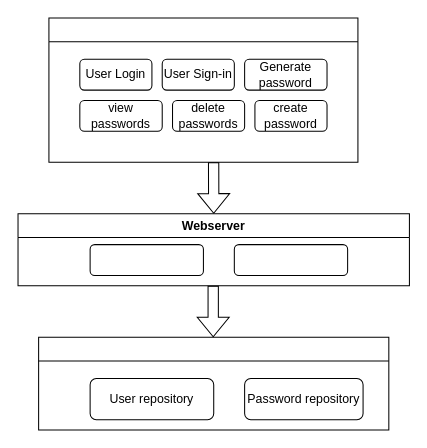
Image size: 427x448. Some labels were removed from this diagram. Here are the shapes that lost their labels. From the top down, the box of each, then its label:
(48, 17, 358, 162): User Interface
(89, 244, 203, 276): Web controller
(233, 244, 348, 276): user authentication
(38, 336, 389, 430): Passworks databases
